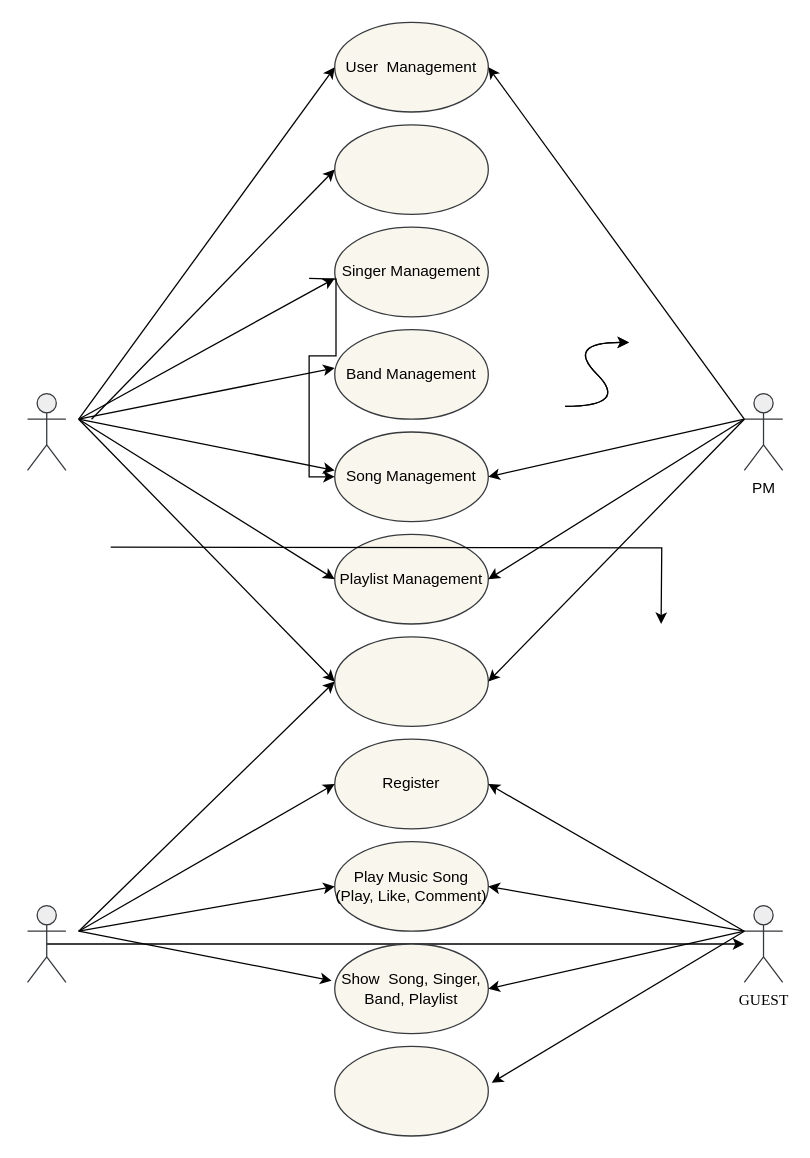
This 810x1158 diagram has some shape labels left out. The shapes that lost their labels are listed below. From the top down, each one's box as (x1, y1, x2, y2) in pixels, then its label:
(333, 124, 488, 214): Category Management
(26, 392, 66, 470): ADMIN
(333, 636, 488, 726): Login,Account Settings( Change Profile, Change Password)
(26, 904, 66, 982): USER
(333, 1045, 488, 1136): Show Top Like, View Song
